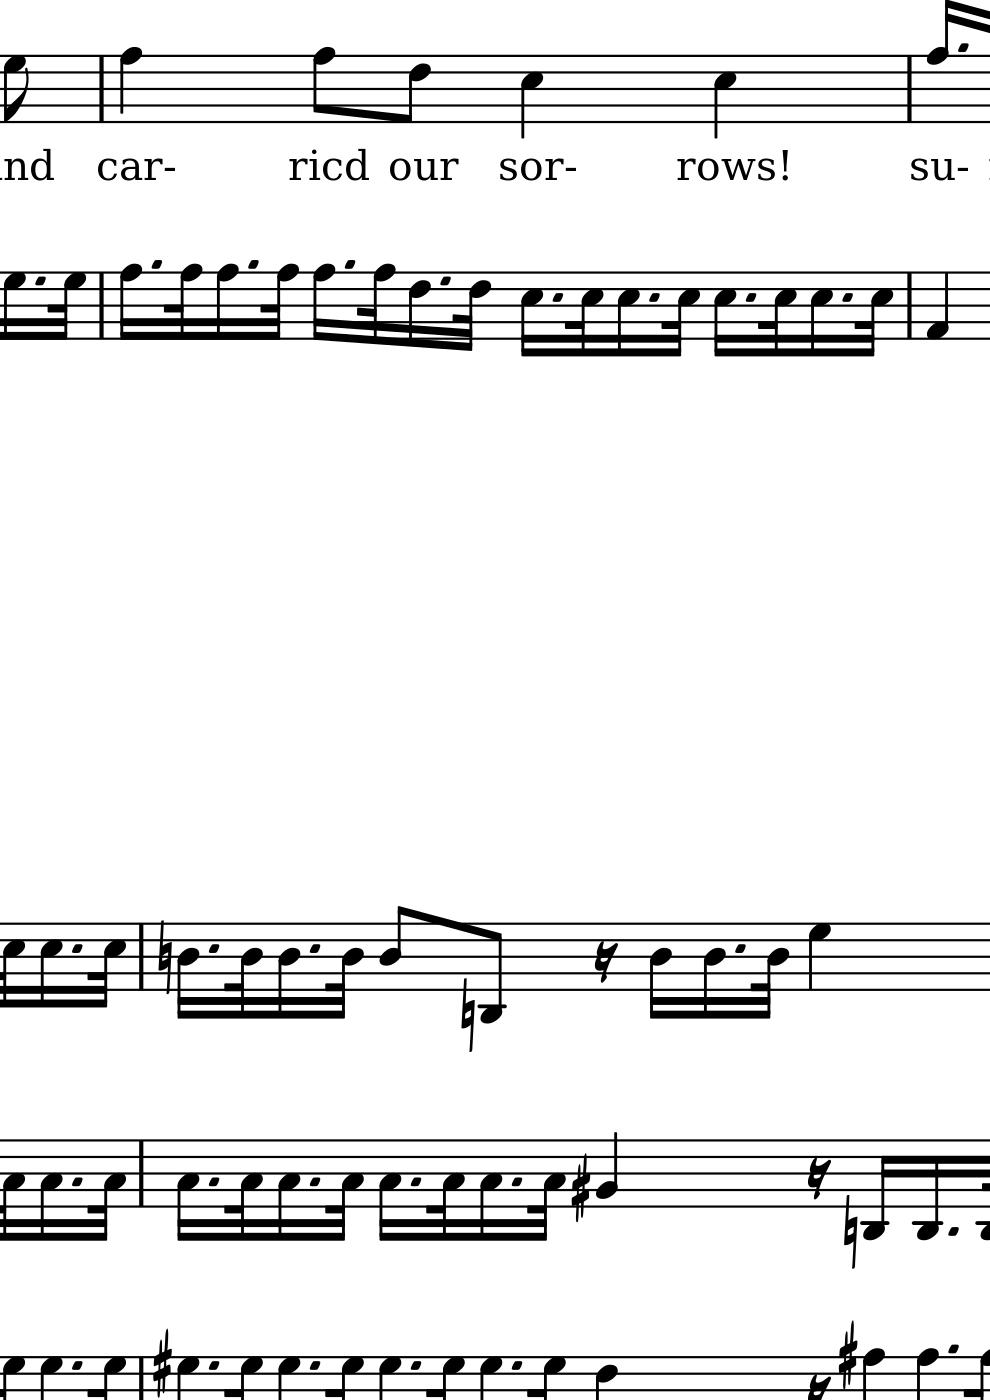16_3: (37, 1136, 64, 1244), (175, 1138, 201, 1243), (275, 1136, 302, 1241), (477, 1138, 504, 1243), (377, 1138, 403, 1243), (1, 1140, 26, 1243)
16_4: (700, 918, 727, 1023), (175, 921, 200, 1023), (275, 921, 301, 1023), (647, 921, 673, 1023)
16_5: (517, 270, 544, 359), (37, 921, 64, 1009), (808, 270, 834, 359), (615, 270, 641, 358), (712, 270, 737, 359), (1, 922, 26, 1009)
16_6: (407, 271, 432, 349)
16_7: (2, 270, 27, 342)
16_8: (924, 1, 956, 127), (117, 262, 142, 343), (311, 264, 336, 344), (214, 262, 240, 342)
32_3: (324, 1136, 364, 1241), (526, 1135, 566, 1243), (88, 1136, 127, 1241), (225, 1135, 262, 1241), (426, 1135, 464, 1241)
32_4: (325, 918, 364, 1024), (751, 920, 792, 1022), (224, 920, 262, 1020)
32_5: (855, 270, 895, 359), (662, 271, 702, 359), (88, 922, 127, 1010), (566, 271, 605, 358), (759, 271, 798, 358)
32_6: (452, 270, 493, 353)
32_7: (49, 271, 88, 342)
32_8: (163, 264, 202, 342), (260, 262, 299, 340)
4_1: (924, 271, 951, 342)
4_2: (594, 1131, 620, 1209)
4_5: (712, 52, 738, 140), (519, 54, 544, 140)
4_7: (806, 922, 832, 993)
4_8: (117, 45, 142, 126)
8_-3: (479, 921, 506, 1025)
8_-5: (860, 1136, 895, 1241), (911, 1136, 943, 1245)
8_4: (378, 904, 410, 993)
8_6: (397, 52, 431, 126)
8_7: (4, 54, 35, 125)
8_8: (311, 45, 336, 125)
Natural: (840, 1192, 860, 1273), (457, 976, 477, 1056), (156, 917, 172, 994)
Rests16: (592, 940, 619, 985), (806, 1157, 832, 1201)
Sharp: (835, 1319, 858, 1391), (570, 1151, 592, 1223), (151, 1327, 172, 1398)
Single_barline: (92, 56, 112, 122), (92, 272, 112, 338), (900, 56, 919, 122), (900, 272, 919, 338), (132, 1141, 150, 1207), (132, 924, 150, 990)
dot: (436, 271, 454, 290), (340, 255, 358, 273), (242, 255, 261, 272), (646, 290, 664, 306), (742, 290, 761, 306), (306, 1174, 325, 1190), (407, 1359, 426, 1374), (147, 256, 164, 272), (305, 940, 322, 957), (731, 940, 748, 957), (33, 274, 50, 290), (406, 1174, 424, 1189), (305, 1358, 321, 1374), (944, 1341, 961, 1356), (507, 1358, 524, 1373), (955, 41, 971, 56), (550, 290, 566, 305), (840, 290, 856, 305), (69, 940, 85, 955), (206, 1175, 222, 1190), (944, 1224, 961, 1238), (206, 1358, 221, 1373), (509, 1175, 524, 1190), (69, 1359, 85, 1373), (206, 942, 220, 955), (70, 1175, 85, 1188)
